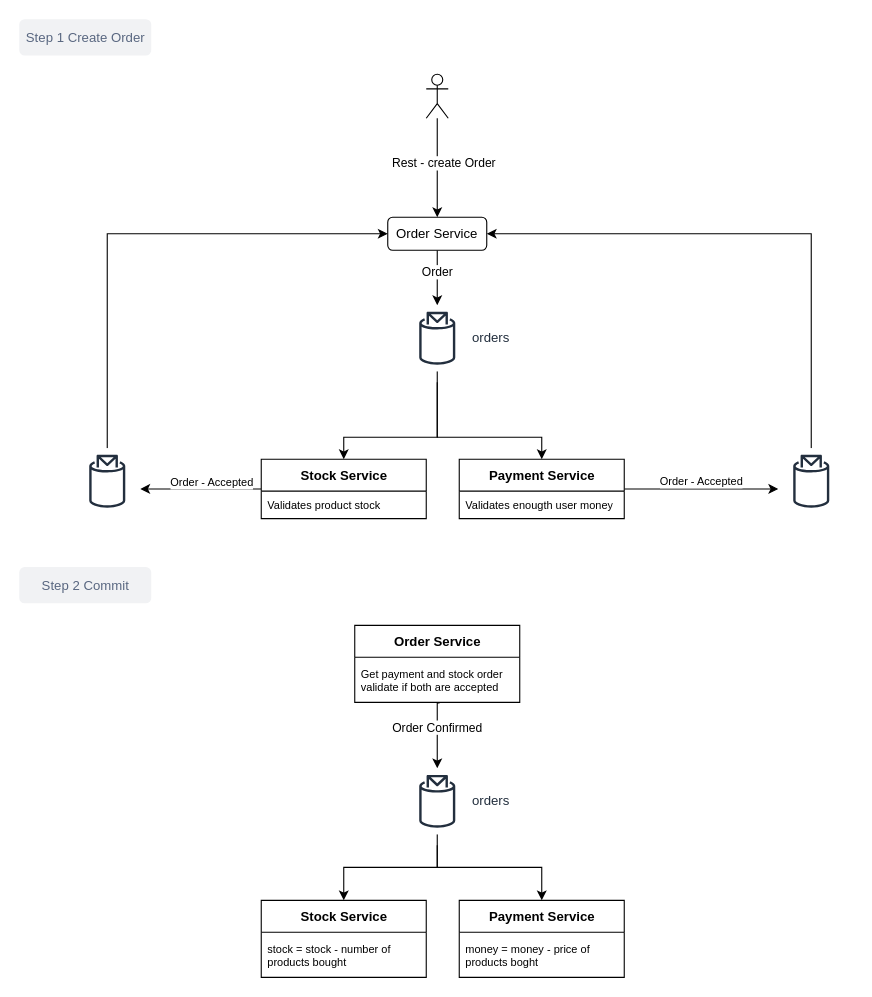
Image size: 872x997. Some labels were removed from this diagram. Here are the shapes that lost their labels. From the top down, the centre of each, then its label:
At point (436, 95): "User".
At point (106, 480): "stock-order".
At point (810, 480): "payment-order".
